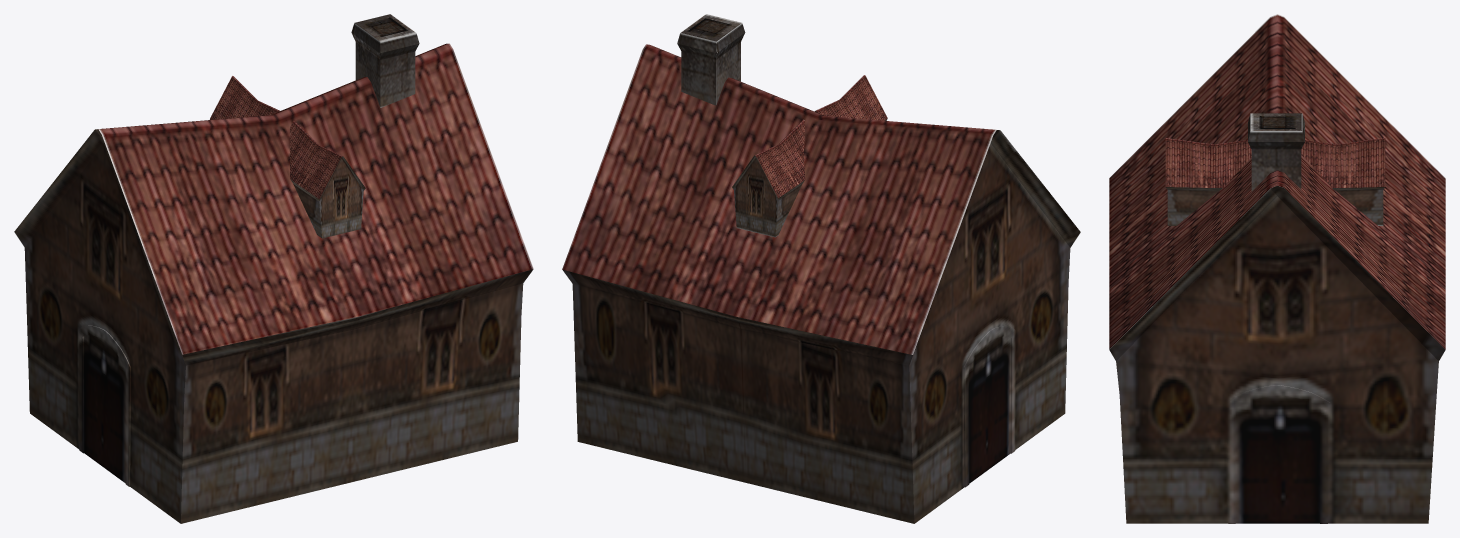
File: House02.fbx
3 renders of one model, left to right at view 1: azimuth 30°, elevation 25°; view 2: azimuth 150°, elevation 25°; view 3: azimuth 270°, elevation 25°, orthographic.
Parts seen in each view (by area): view 1: House01; view 2: House01; view 3: House01.
Boxes of the visible parts, x1,y1,x2,y2 form: House01: (14, 14, 533, 523); House01: (562, 14, 1080, 523); House01: (1109, 14, 1445, 523).
Size of the model in its own units: 108 by 110 by 89.49.
Materials: 1 (1 with a texture image).
